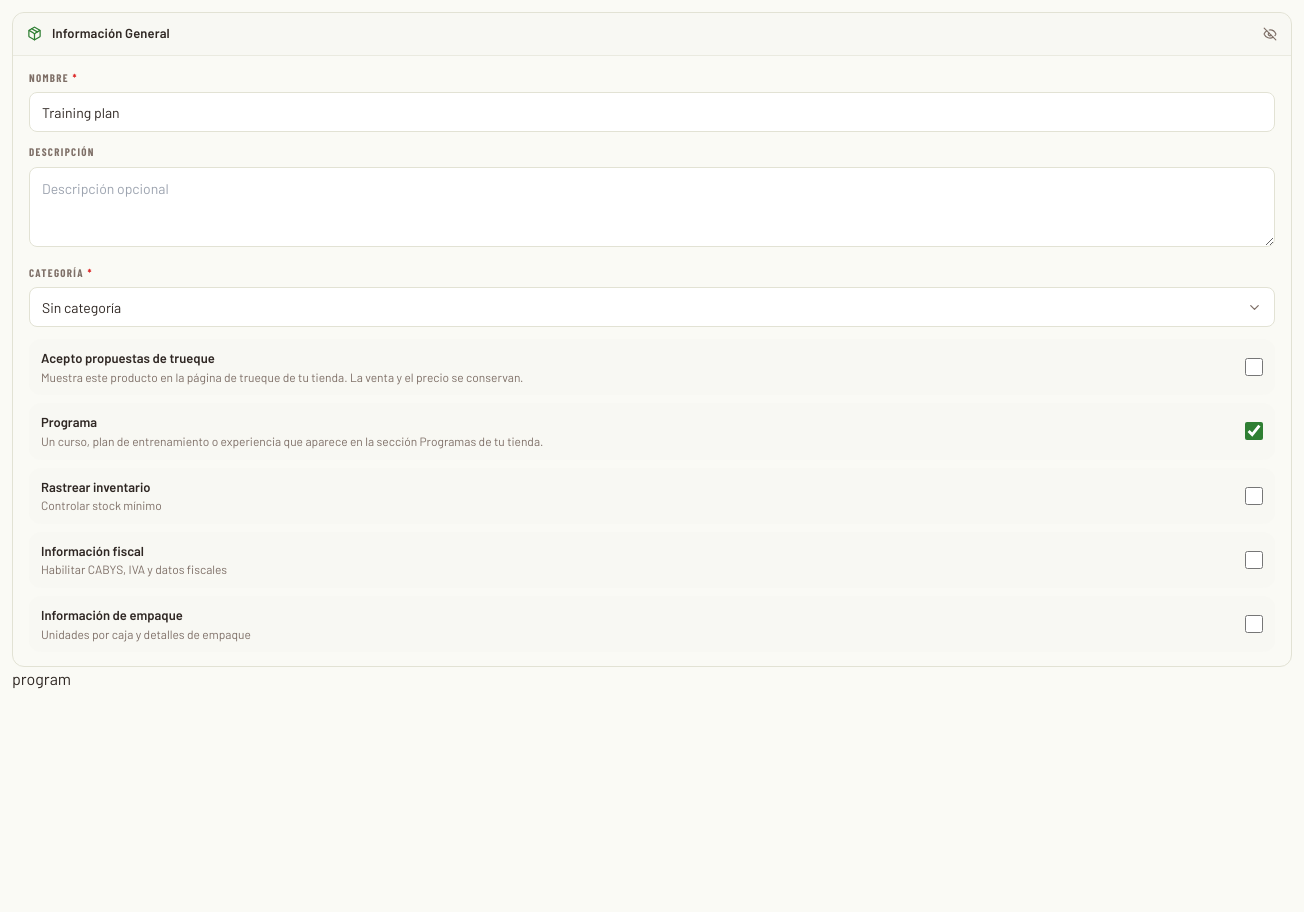
Scenario: program checkbox in the shared product editor › loads an existing program as checked and permits conversion to a product
This screenshot has width=1304, height=912.
Click the checkbox named "Programa": (1254, 431) [1245,422,1263,440]
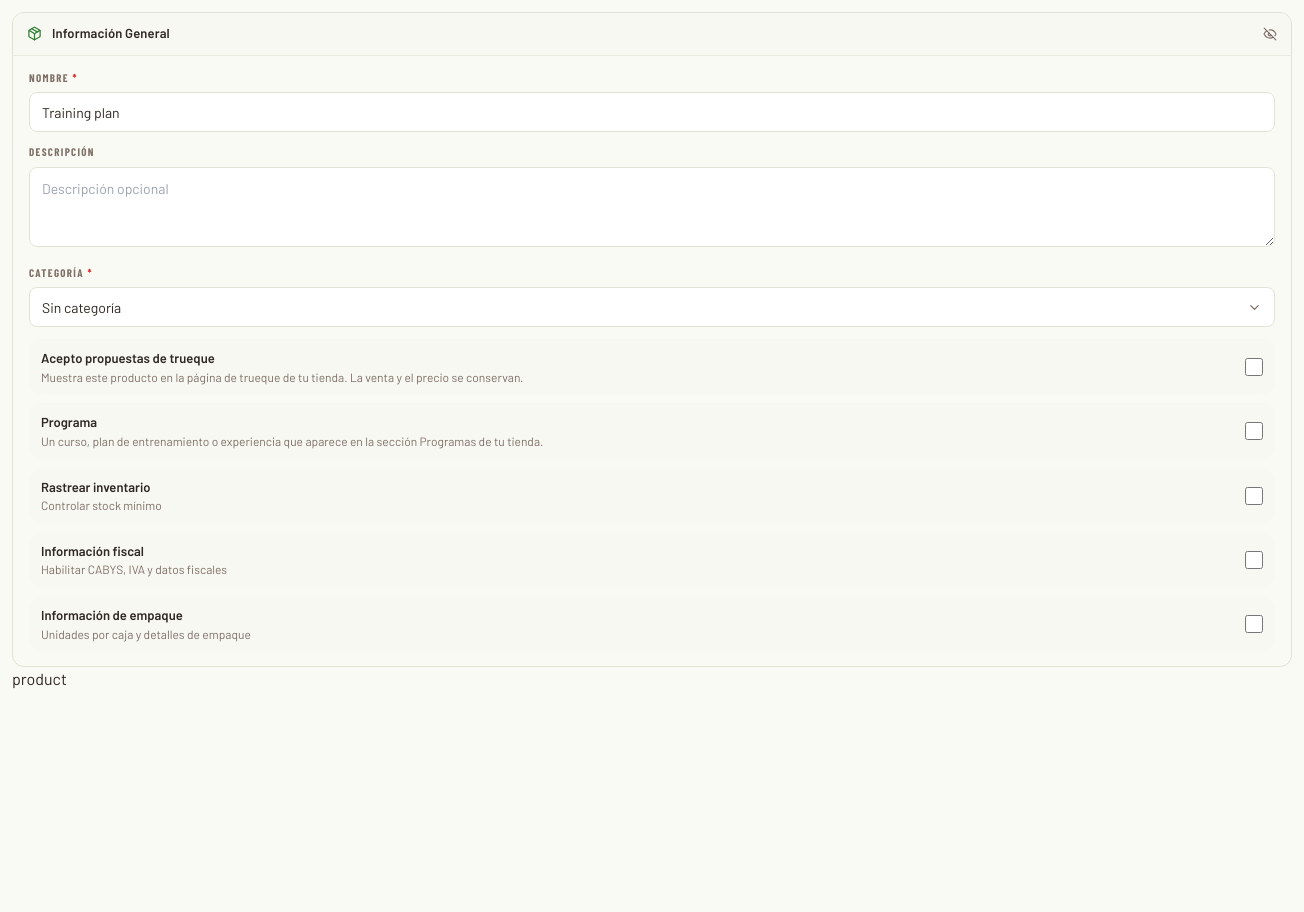
Now the text named "Saved catalog type" reads "product", box [12,670,67,688]
